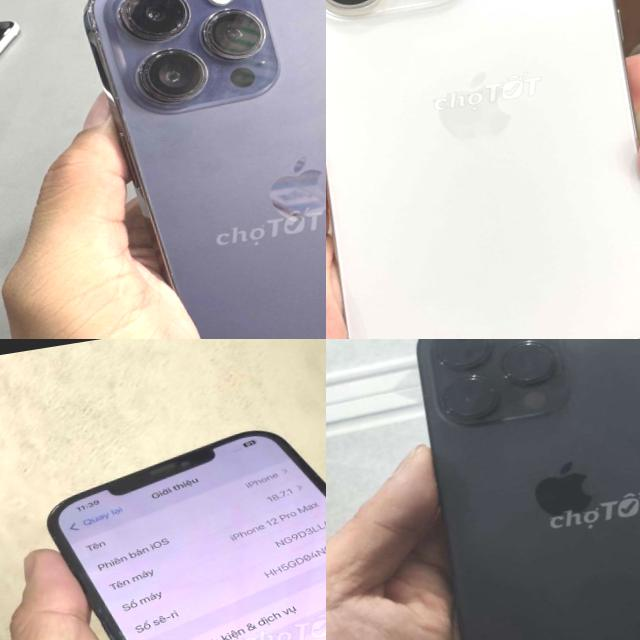gen_12_13: (21, 383, 326, 640)
gen_14: (63, 0, 326, 339), (392, 339, 640, 640)
gen_15: (326, 0, 640, 339)
